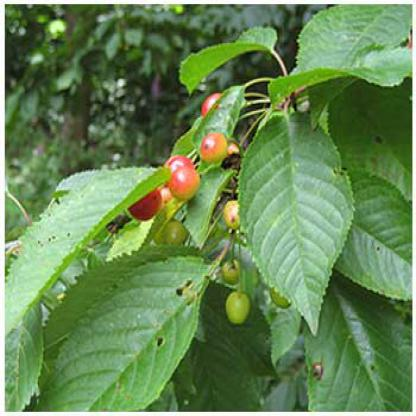Cherry leaf: (36, 255, 225, 412), (235, 107, 355, 349), (4, 158, 176, 326), (269, 6, 411, 115)
